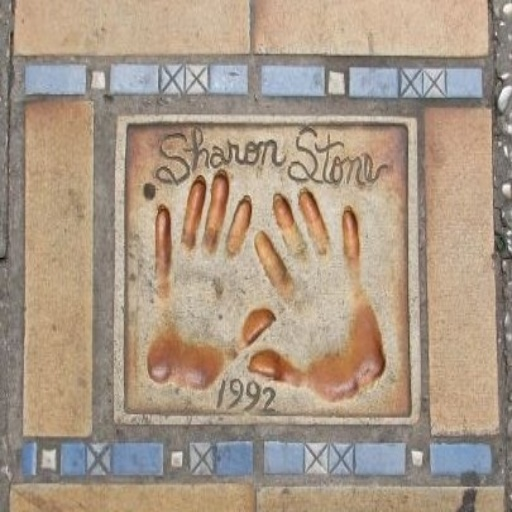hand: (243, 186, 384, 404), (142, 160, 275, 390)
